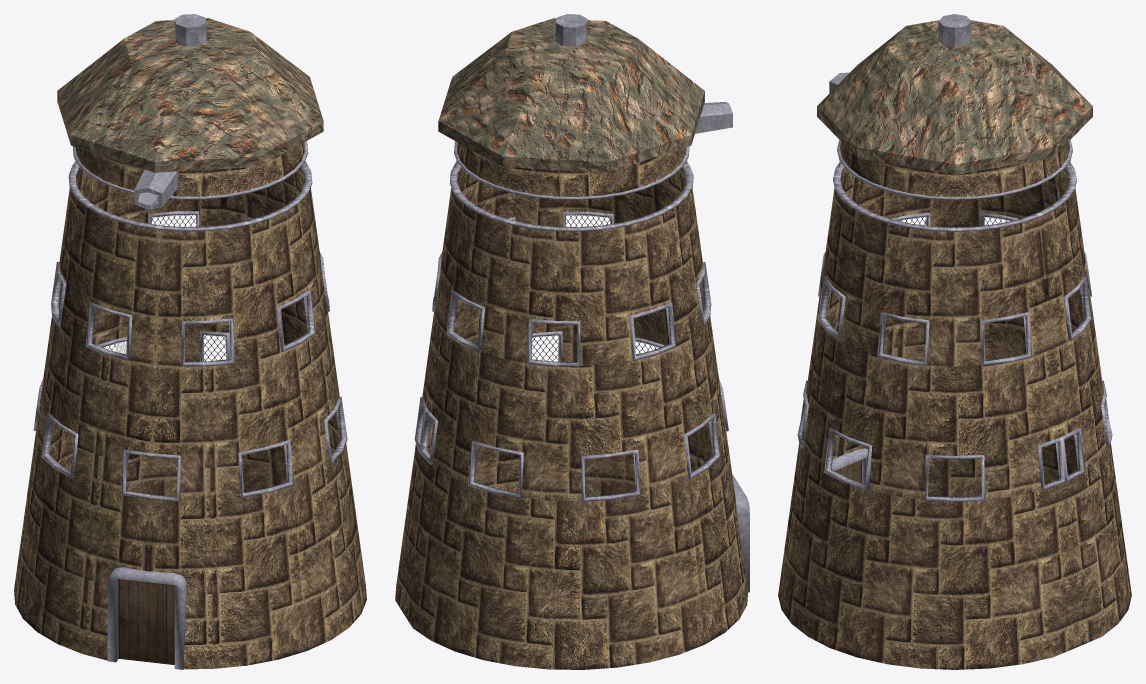
3 renders of one model, left to right at view 1: azimuth 30°, elevation 25°; view 2: azimuth 150°, elevation 25°; view 3: azimuth 270°, elevation 25°, orthographic.
Parts seen in each view (by area): view 1: molino001_brick_0, Circle021_rock2_0, Circle025_concreto_0, Circle023_atlas_puertas_0, Circle022_concreto_0, Cube013_concreto_0, Circle026_concreto_0, Circle024_rejas_tra_0; view 2: molino001_brick_0, Circle021_rock2_0, Circle025_concreto_0, Circle026_concreto_0, Circle022_concreto_0, Cube013_concreto_0, Circle024_rejas_tra_0; view 3: molino001_brick_0, Circle021_rock2_0, Circle025_concreto_0, Circle026_concreto_0, Circle022_concreto_0.
Part boxes in pixels (x1,y1,x2,y2): molino001_brick_0: (14, 142, 366, 669); Circle021_rock2_0: (57, 18, 323, 172); Circle025_concreto_0: (33, 141, 347, 501); Circle023_atlas_puertas_0: (118, 579, 174, 664); Circle022_concreto_0: (107, 567, 186, 669); Cube013_concreto_0: (134, 169, 177, 209); Circle026_concreto_0: (174, 14, 206, 46); Circle024_rejas_tra_0: (73, 159, 306, 361); molino001_brick_0: (395, 142, 748, 669); Circle021_rock2_0: (438, 18, 704, 172); Circle025_concreto_0: (414, 141, 728, 501); Circle026_concreto_0: (555, 14, 587, 46); Circle022_concreto_0: (732, 474, 749, 592); Cube013_concreto_0: (695, 102, 732, 133); Circle024_rejas_tra_0: (454, 160, 688, 361); molino001_brick_0: (778, 141, 1131, 669); Circle021_rock2_0: (817, 20, 1092, 174); Circle025_concreto_0: (797, 140, 1112, 501); Circle026_concreto_0: (938, 14, 971, 46); Circle022_concreto_0: (832, 448, 867, 483).
Size of the model in its own units: 10.05 by 18 by 10.05.
Materials: 5 (5 with a texture image).
